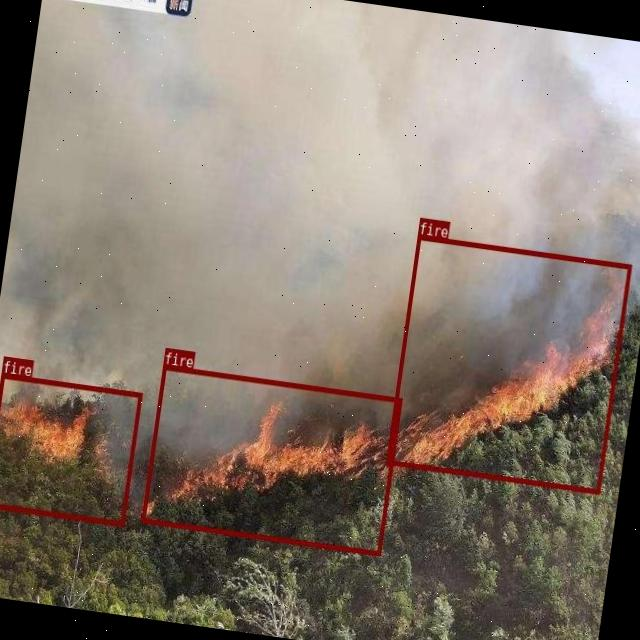fire: (384, 234, 632, 493), (141, 364, 402, 556), (0, 373, 142, 526)
